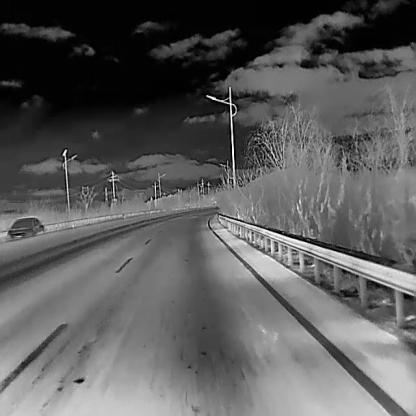car: (6, 216, 45, 237)
